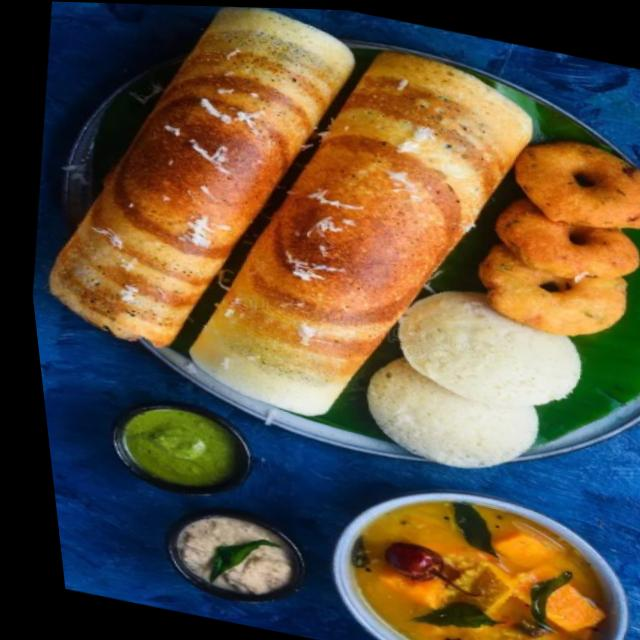DOSA: (48, 7, 534, 416)
GREEN CHUTNEY: (112, 401, 250, 491)
IDLI: (366, 291, 581, 468)
SAMBAR: (333, 495, 626, 640)
VADA: (477, 140, 640, 336)
WHITE CHUTNEY: (165, 511, 305, 598)
